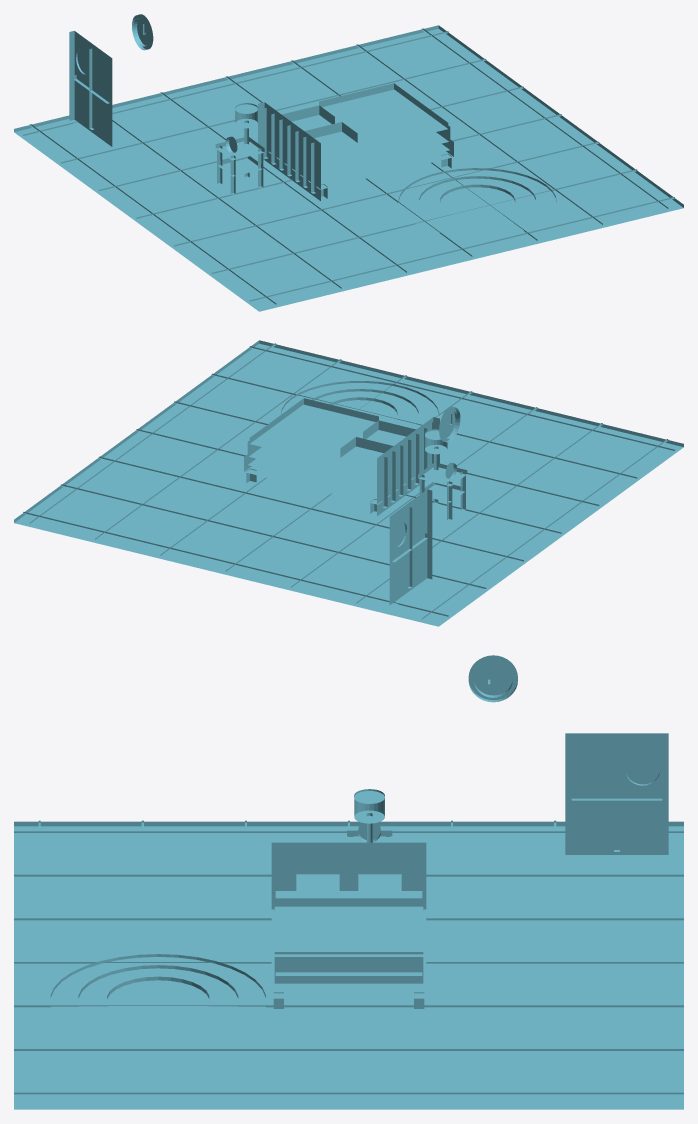
Rendered from bedroom.glb.
3 views of the same model, one above another, from view 1: azimuth 30°, elevation 25°; view 2: azimuth 150°, elevation 25°; view 3: azimuth 270°, elevation 25° (orthographic). The views are drawn at different scales.
Parts seen in each view (by area): view 1: FloorMat, Bed, Rug, Window, NightStand, WallClock; view 2: FloorMat, Bed, Window, Rug, NightStand, WallClock; view 3: FloorMat, Bed, Rug, Window, WallClock, NightStand.
Boxes of the visible parts, x1,y1,x2,y2 form: FloorMat: (14,25,683,311); Bed: (258,83,453,202); Rug: (398,168,556,236); Window: (69,30,112,148); NightStand: (215,103,264,194); WallClock: (132,14,153,50); FloorMat: (14,340,683,626); Bed: (244,398,439,517); Window: (389,489,432,606); Rug: (281,381,439,429); NightStand: (418,429,467,520); WallClock: (439,406,460,442); FloorMat: (14,820,683,1109); Bed: (271,842,426,1013); Rug: (50,954,265,1048); Window: (565,733,668,858); WallClock: (468,655,517,702); NightStand: (347,789,392,842).
Size of the model in its own units: 6.5 by 2.24 by 6.5.
